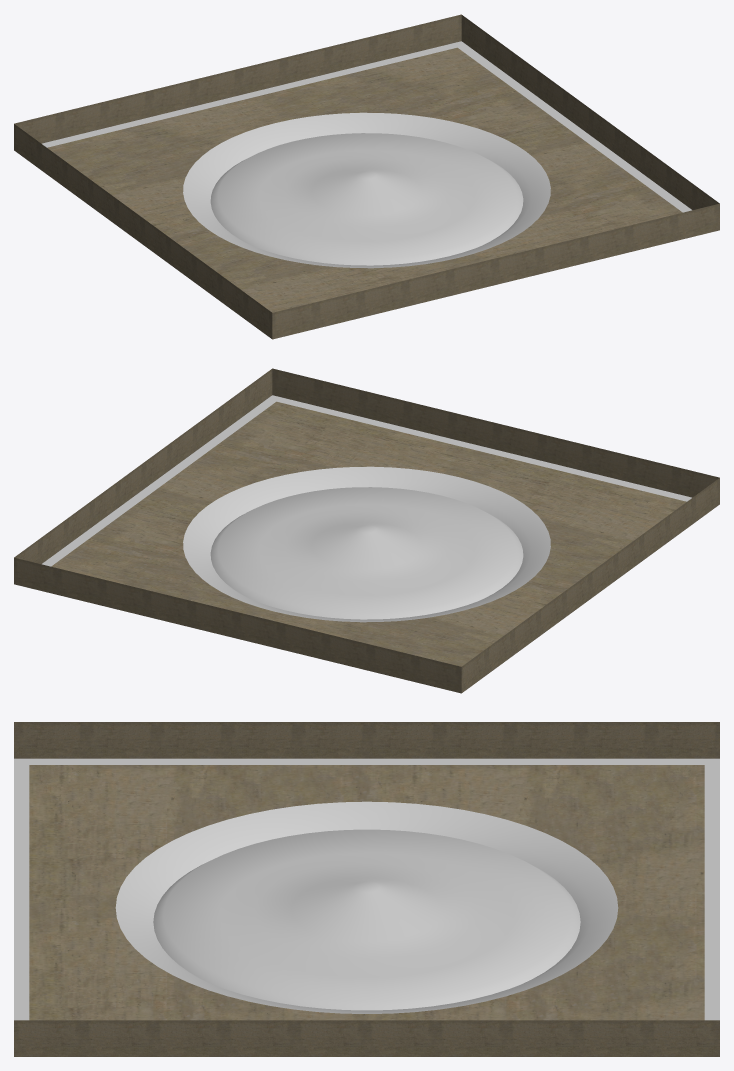
The model's file is Ceiling_01.FBX.
The picture shows the model from 3 angles, top to bottom: view 1: azimuth 30°, elevation 25°; view 2: azimuth 150°, elevation 25°; view 3: azimuth 270°, elevation 25°; orthographic projection. The views are drawn at different scales.
Parts seen in each view (by area): view 1: Ceiling_01; view 2: Ceiling_01; view 3: Ceiling_01.
Part boxes in pixels (bbox=[...]): Ceiling_01: bbox=[14, 14, 719, 339]; Ceiling_01: bbox=[14, 368, 719, 693]; Ceiling_01: bbox=[14, 722, 719, 1056].
Bounding box in the file's own units: 10 × 0.7944 × 10.
